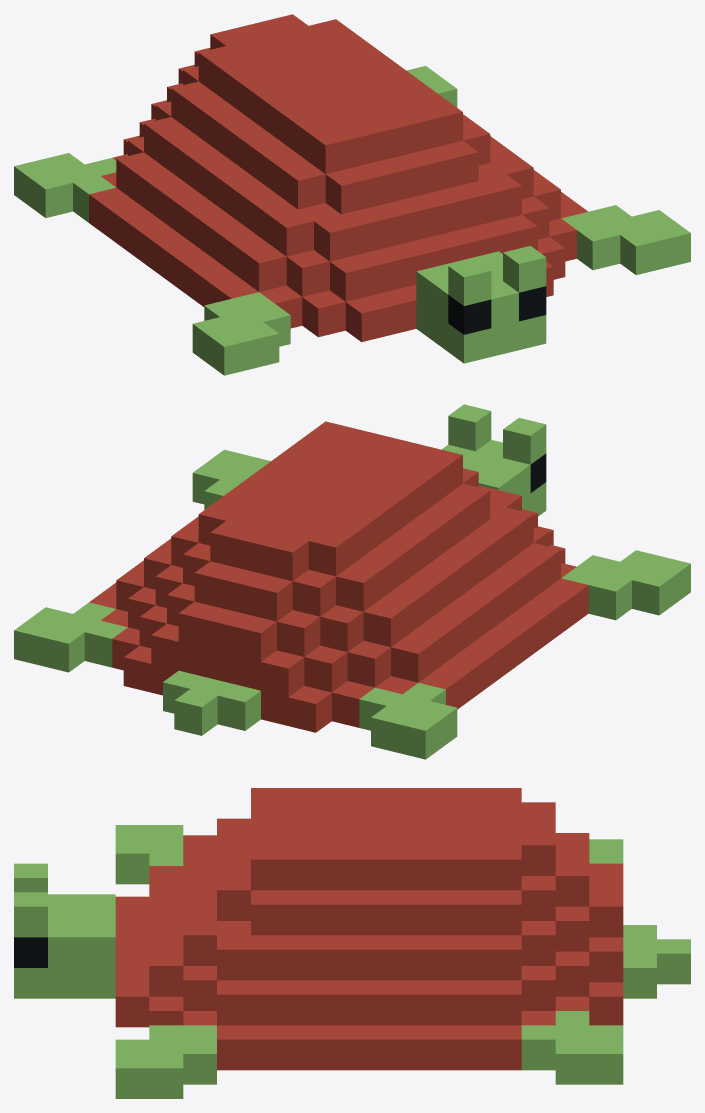
Rendered from turtle.obj.
3 views of the same model, one above another, from view 1: azimuth 30°, elevation 25°; view 2: azimuth 150°, elevation 25°; view 3: azimuth 270°, elevation 25° (orthographic). The views are drawn at different scales.
Visible parts, largest first — view 1: turtle; view 2: turtle; view 3: turtle.
Boxes of the visible parts, left/top/right/bottom form: turtle: left=14, top=14, right=690, bottom=375; turtle: left=14, top=404, right=690, bottom=759; turtle: left=14, top=788, right=690, bottom=1098.
Bounding box in the file's own units: 17 × 5 × 20.
